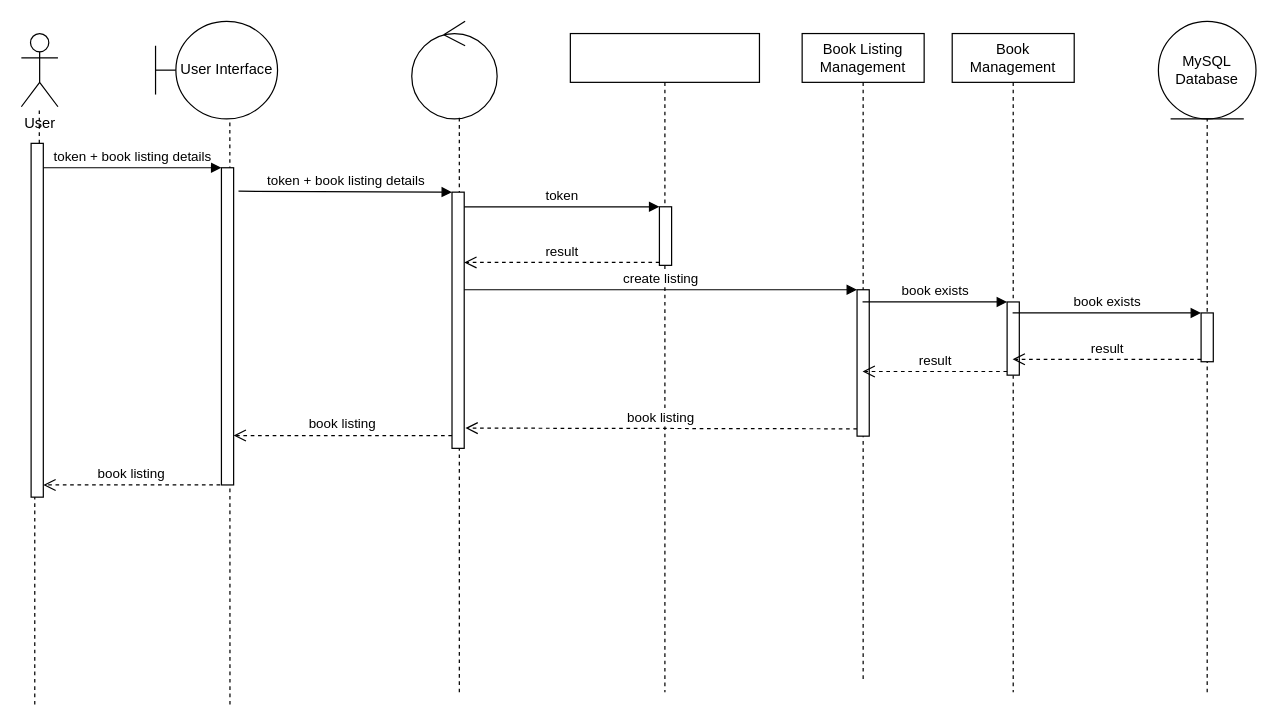
The diagram is 1277 pixels wide and 727 high, and some of its shapes have lost their labels. Here are the shapes that lost their labels. From the top down, the box of each, then its label:
(411, 20, 497, 119): Server Controller
(569, 32, 759, 692): JWTAuthenticator
